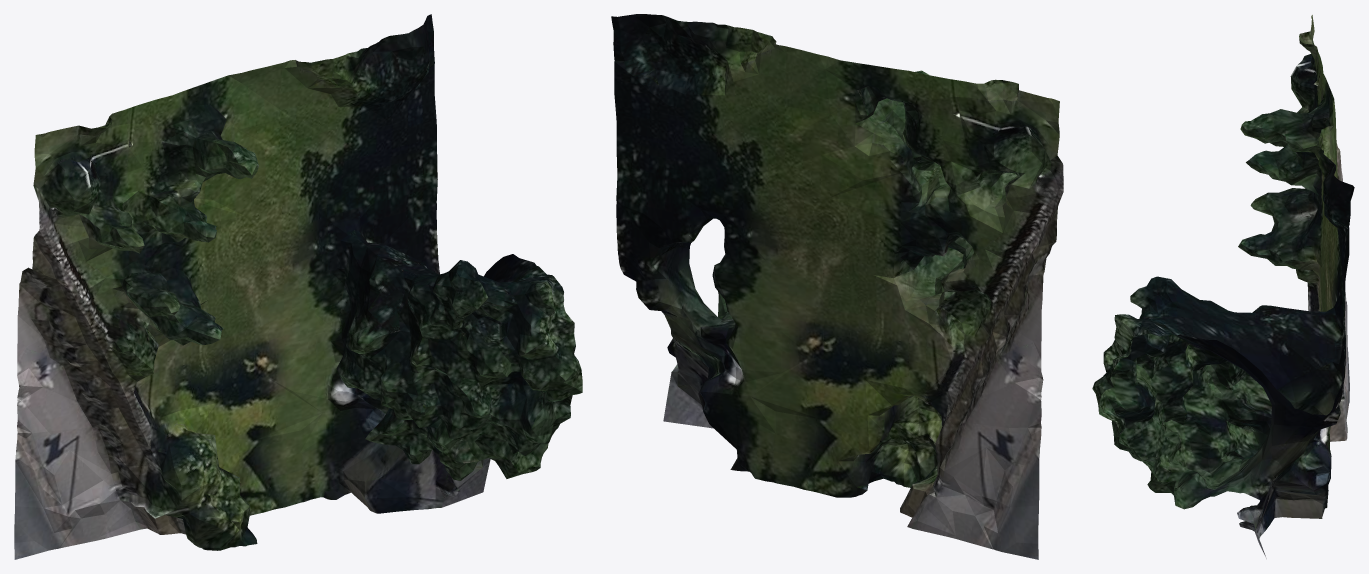
Rendered from Tile_+032_+023_L20_0000030.obj.
3 views of the same model, side by side, from view 1: azimuth 30°, elevation 25°; view 2: azimuth 150°, elevation 25°; view 3: azimuth 270°, elevation 25° (orthographic). The views are drawn at different scales.
Size of the model in its own units: 31.5 by 31.5 by 20.11.
Materials: 1 (1 with a texture image).
